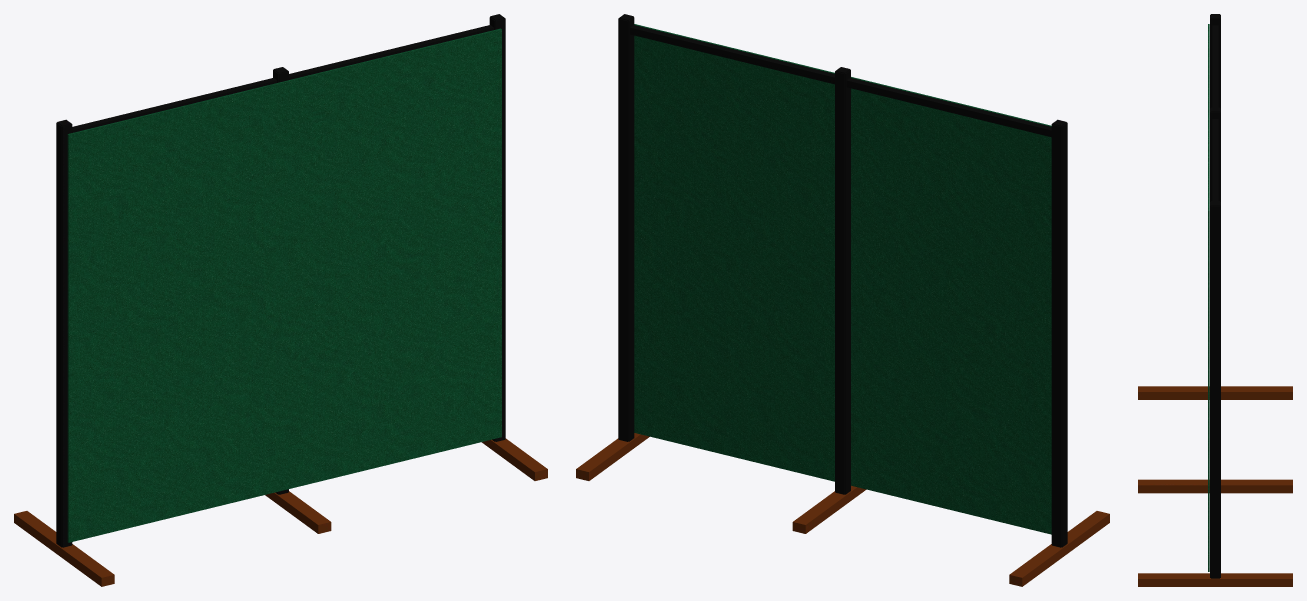
File: obj_fence_green.glb
The picture shows the model from 3 angles, left to right: view 1: azimuth 30°, elevation 25°; view 2: azimuth 150°, elevation 25°; view 3: azimuth 270°, elevation 25°; orthographic projection. The views are drawn at different scales.
Parts seen in each view (by area): view 1: fence_green_body; view 2: fence_green_body; view 3: fence_green_body.
Boxes of the visible parts, x1,y1,x2,y2 form: fence_green_body: [14, 14, 547, 586]; fence_green_body: [576, 14, 1109, 586]; fence_green_body: [1138, 14, 1292, 586].
Bounding box in the file's own units: 2.06 × 1.9 × 0.7.
Materials: 1 (1 with a texture image).
